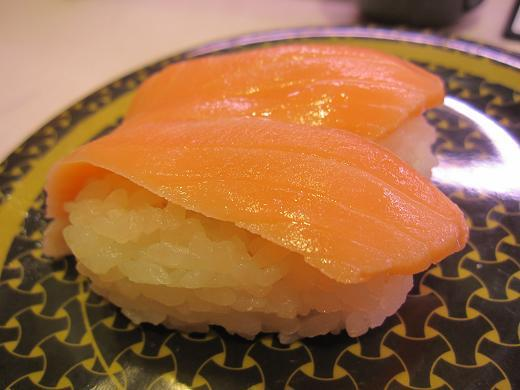salmon: (36, 107, 470, 352)
